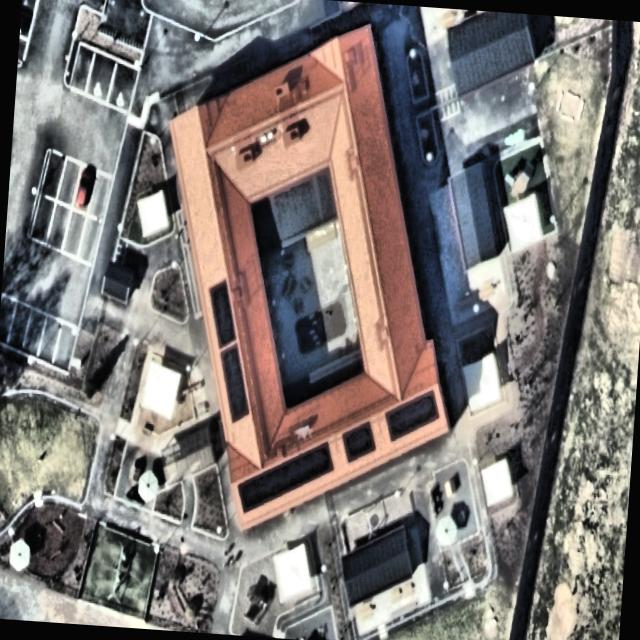roof_pv: (212, 344, 256, 428), (202, 276, 241, 350), (231, 464, 280, 520), (336, 419, 379, 468), (278, 445, 311, 503), (380, 393, 415, 442), (412, 386, 442, 434), (309, 437, 337, 486)
